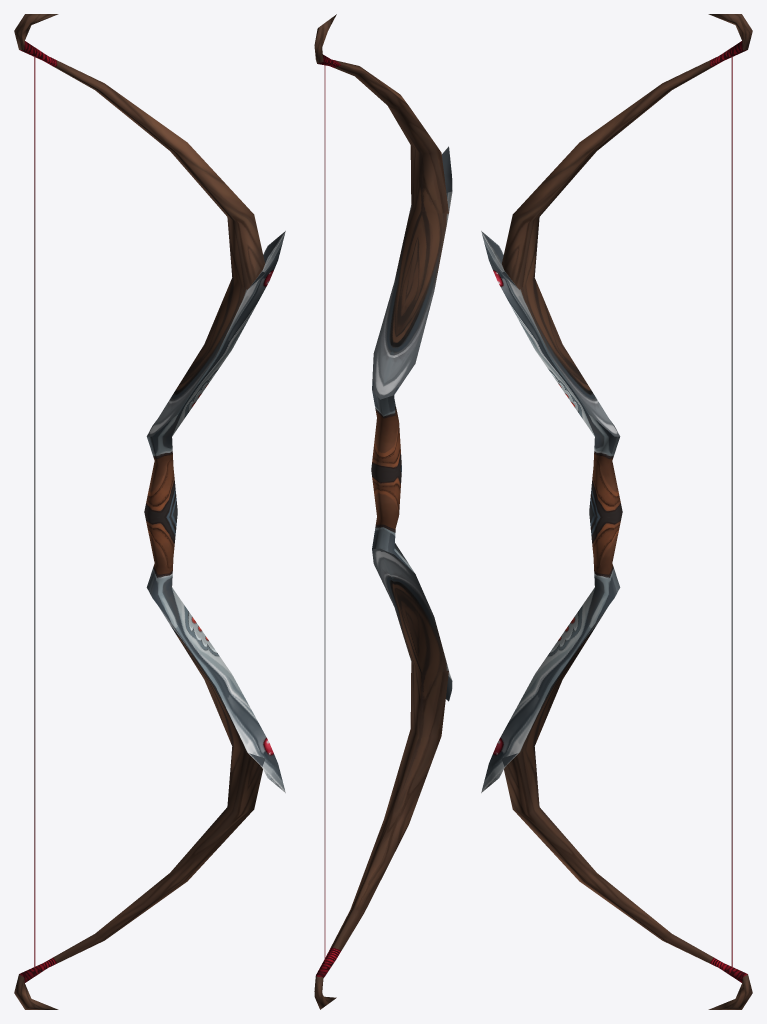
File: Bow01_mesh.FBX
3 renders of one model, left to right at view 1: azimuth 90°, elevation 25°; view 2: azimuth 150°, elevation 25°; view 3: azimuth 270°, elevation 25°, orthographic.
Parts seen in each view (by area): view 1: Bow01_mesh; view 2: Bow01_mesh; view 3: Bow01_mesh.
Boxes of the visible parts, x1=… form: Bow01_mesh: x1=14, y1=14, x2=285, y2=1009; Bow01_mesh: x1=314, y1=14, x2=452, y2=1009; Bow01_mesh: x1=481, y1=14, x2=752, y2=1009.
Bounding box in the file's own units: 2.73 × 61.31 × 15.16.
